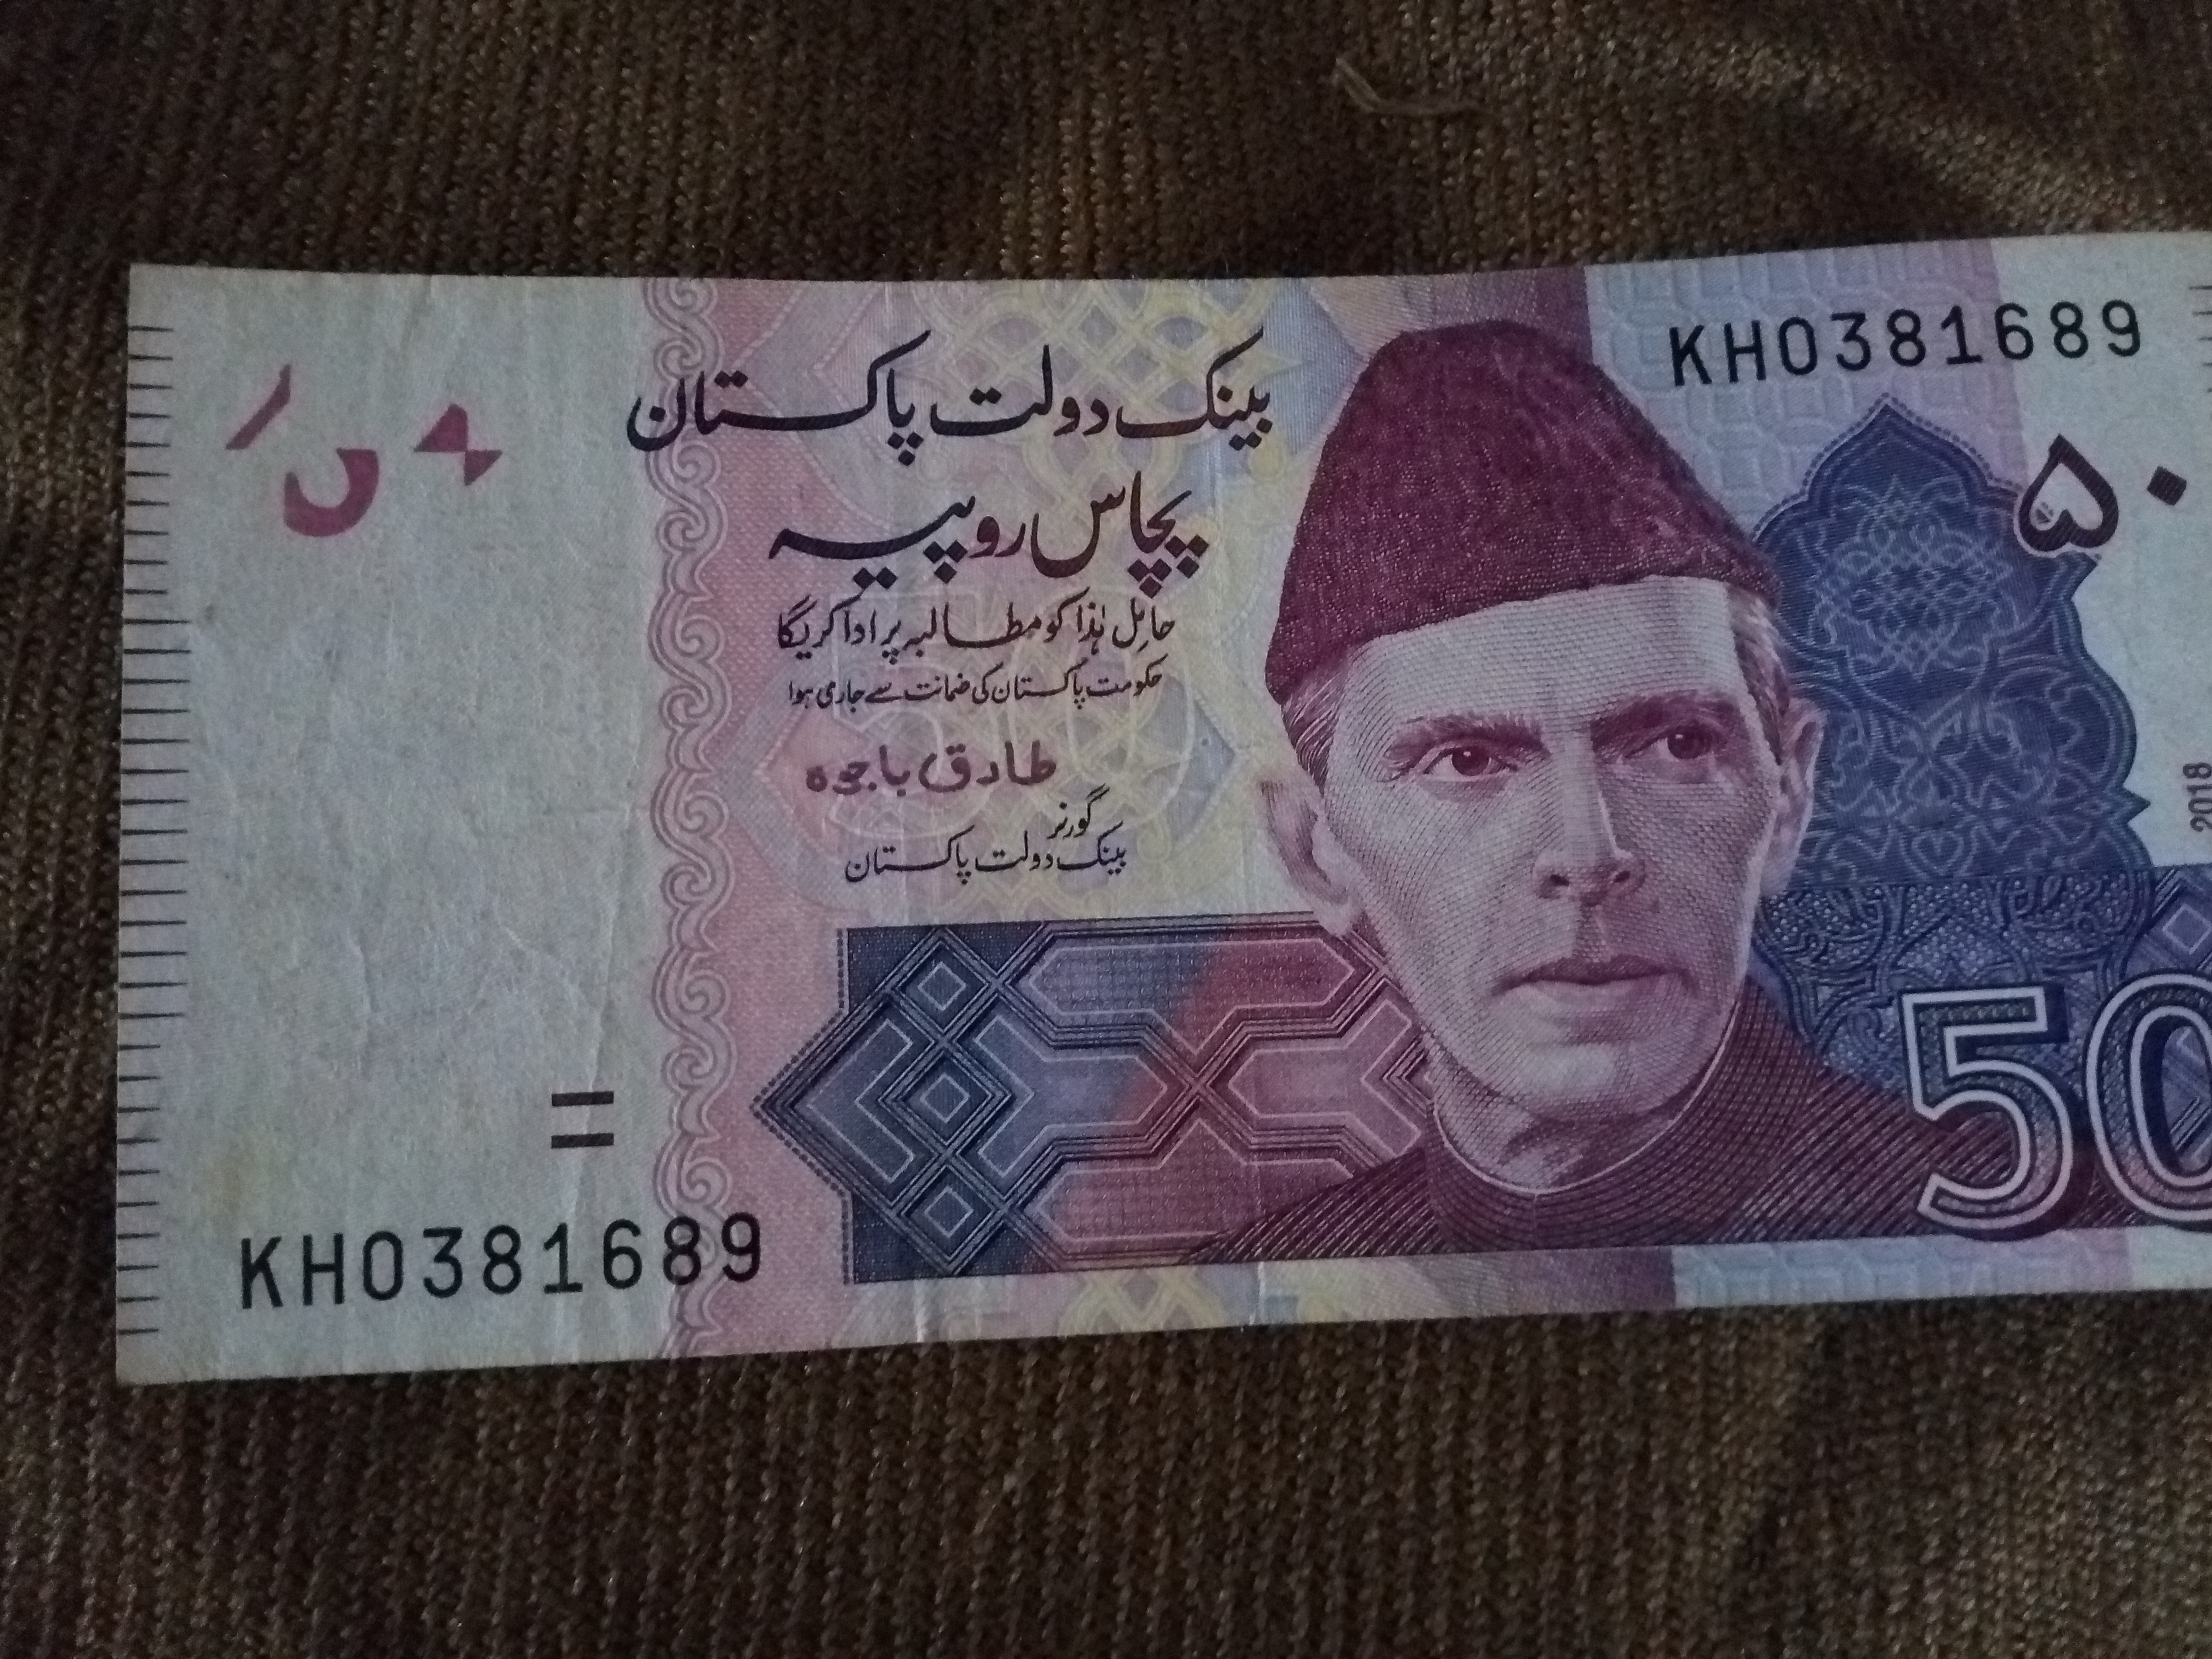50 rupee: (89, 237, 2196, 1425)
